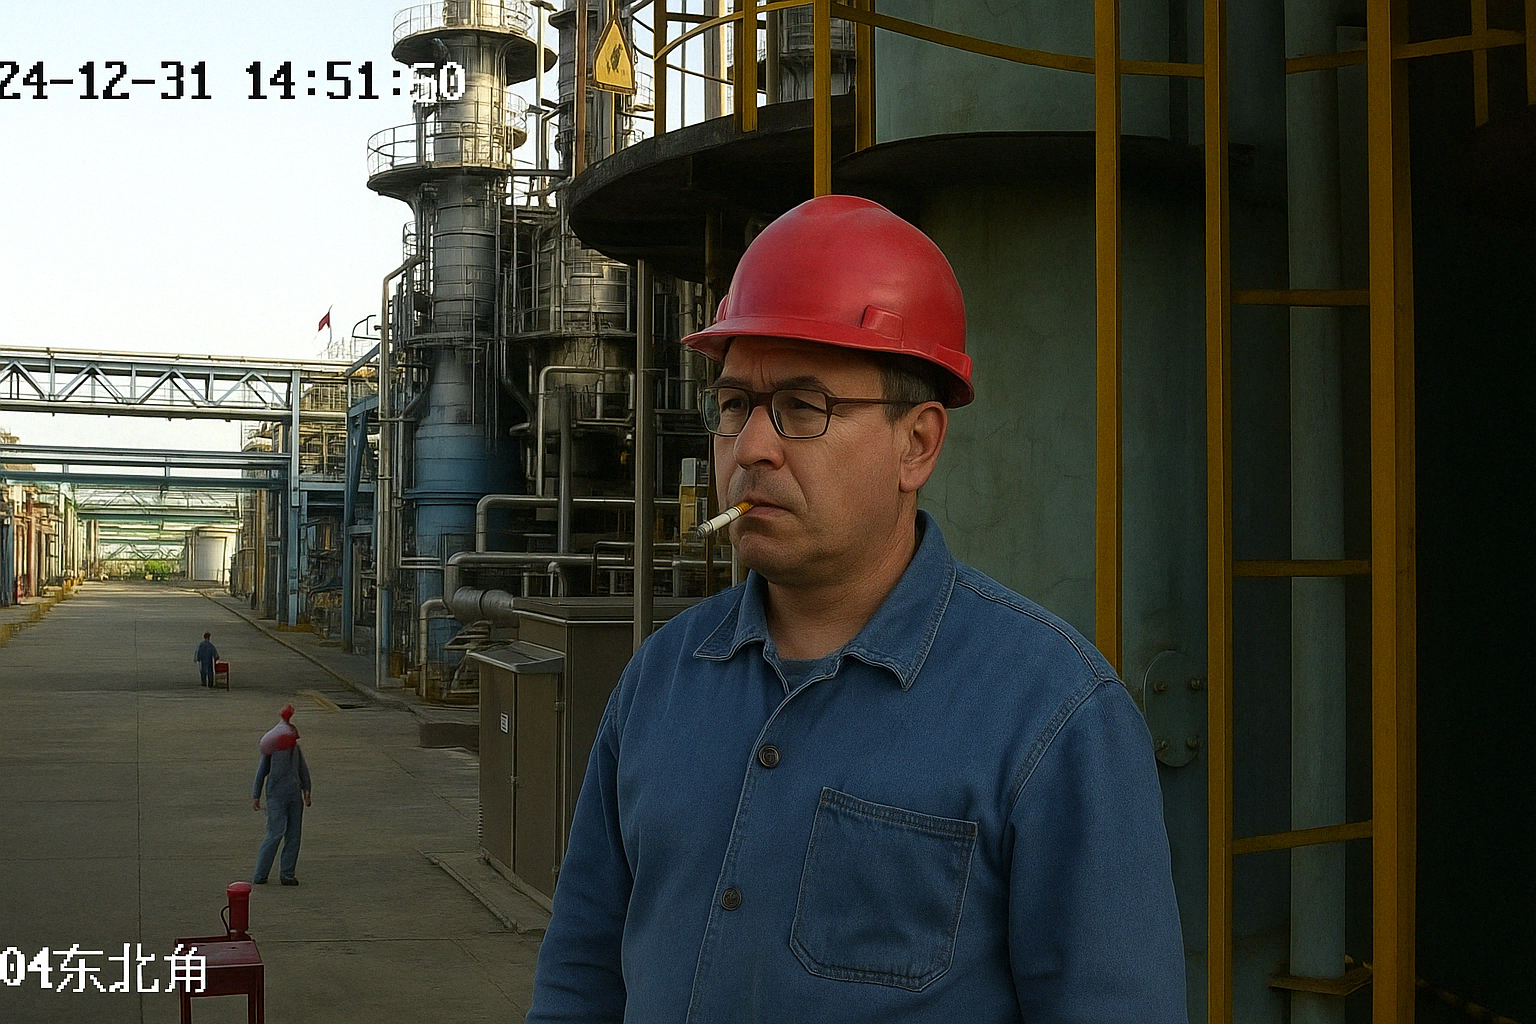smoking: (683, 479, 778, 545)
